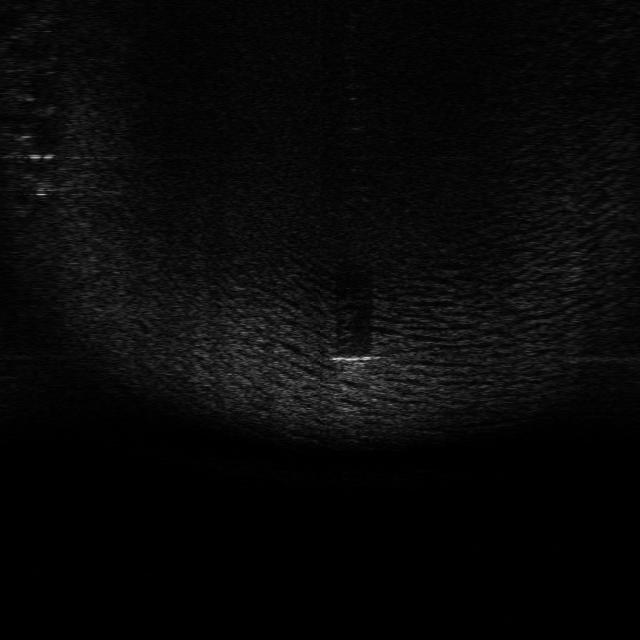cube: (333, 352, 372, 368)
